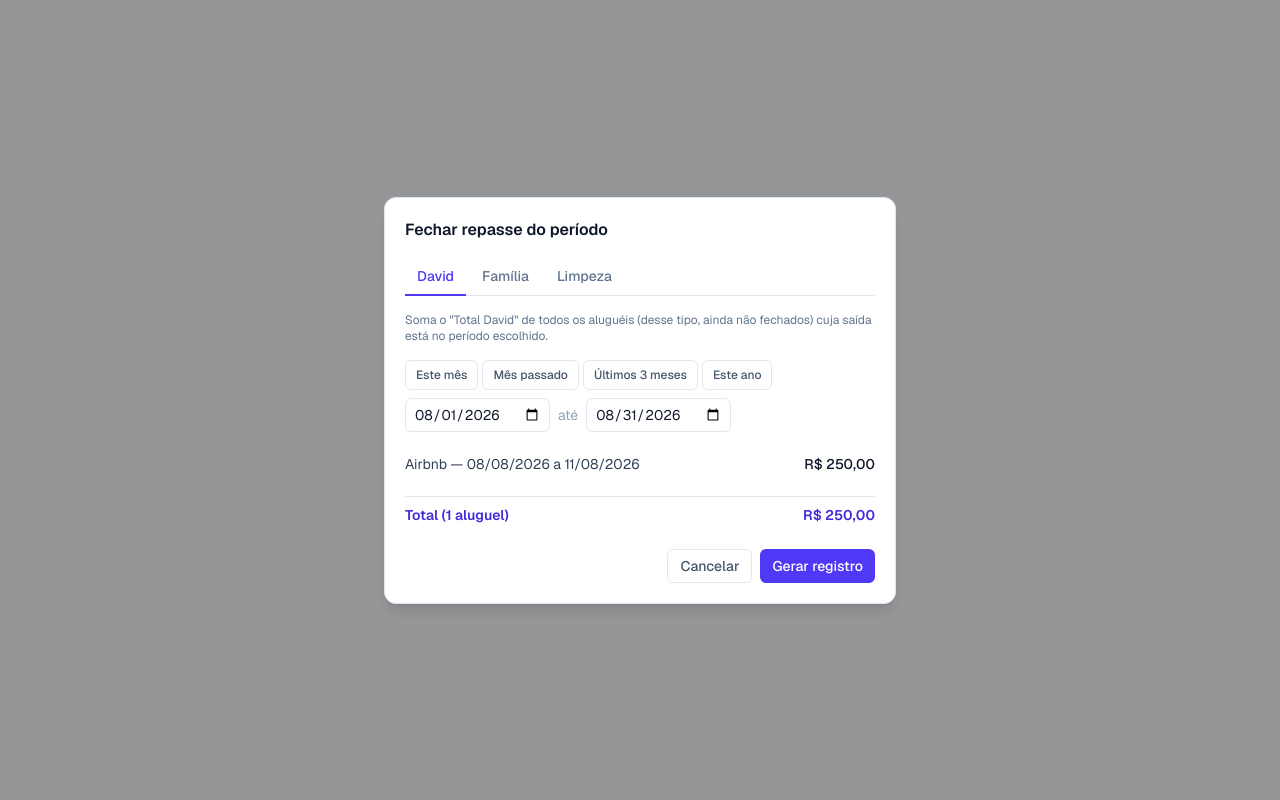
Test: SettlementModal — gerar o repasse › envia o tipo e o período e mostra o resultado
Expected: the text "Airbnb — 08/08/2026 a 11/08/2026" is shown, [405,454,640,474]
What coordinates should you click on to do the following:
click the button "Gerar registro"
I would click on:
 (818, 566)
Its box is [760,548,875,582].
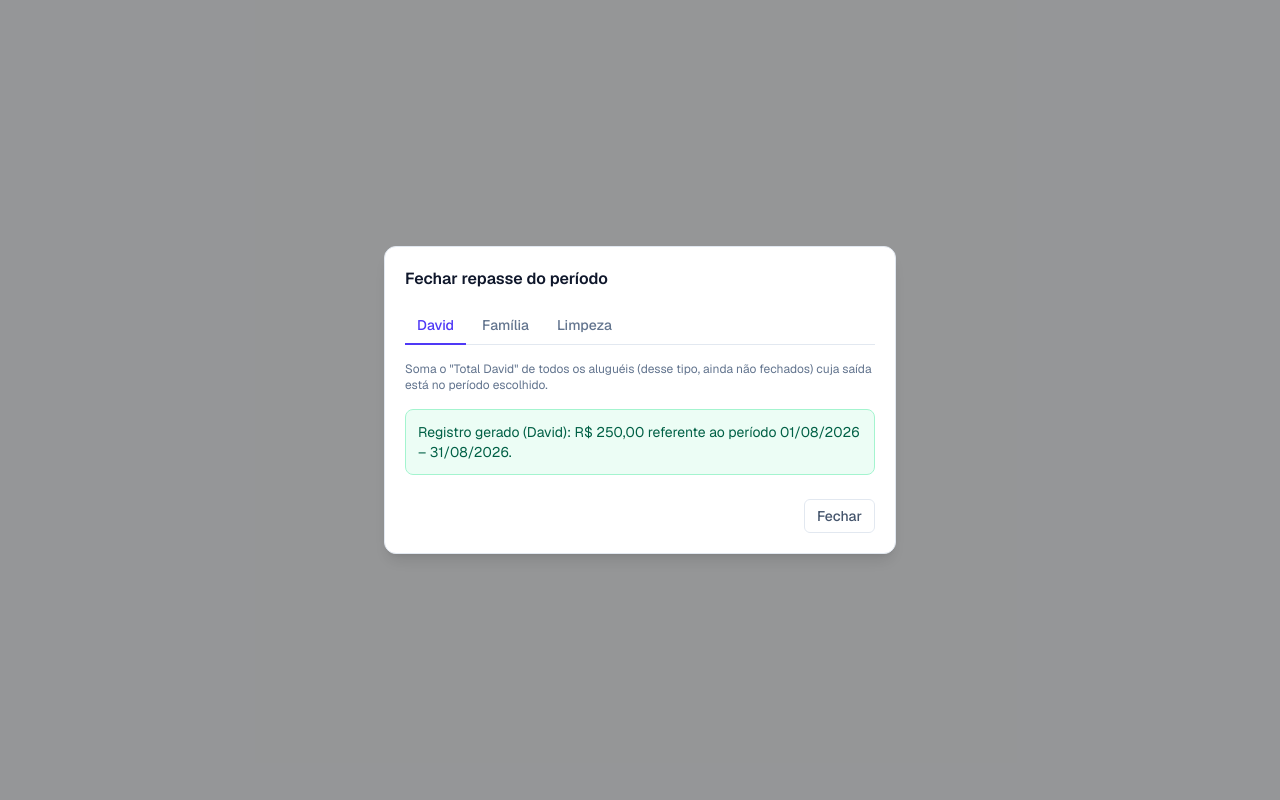
Result: the text "Registro gerado (David)" is shown at [405,409,875,475]
